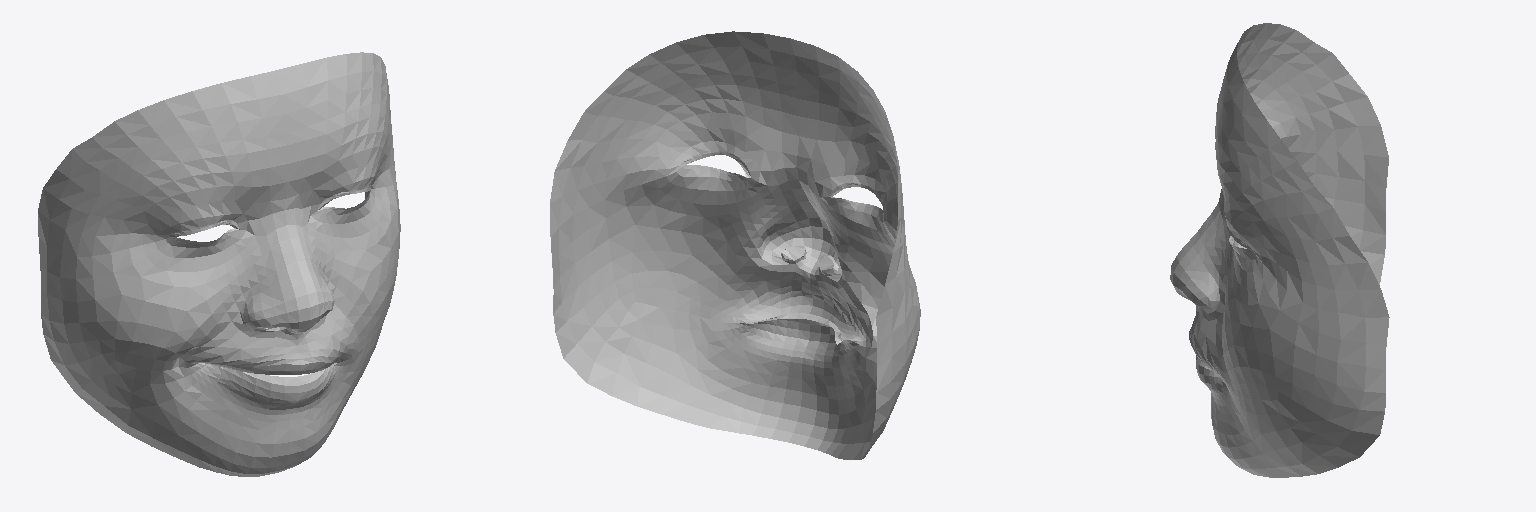
Rendered from mouthSmile_R.obj.
3 renders of one model, left to right at view 1: azimuth 30°, elevation 25°; view 2: azimuth 150°, elevation 25°; view 3: azimuth 270°, elevation 25°, orthographic.
Parts seen in each view (by area): view 1: default; view 2: default; view 3: default.
Part boxes in pixels (bbox=[...]): default: bbox=[38, 52, 400, 476]; default: bbox=[550, 31, 920, 459]; default: bbox=[1170, 23, 1389, 477].
Bounding box in the file's own units: 0.1624 × 0.1853 × 0.0911.